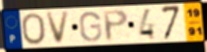4: (136, 8, 159, 42)
7: (161, 5, 183, 43)
G: (78, 10, 103, 43)
O: (20, 12, 47, 46)
P: (101, 9, 130, 43)
V: (45, 10, 72, 46)
